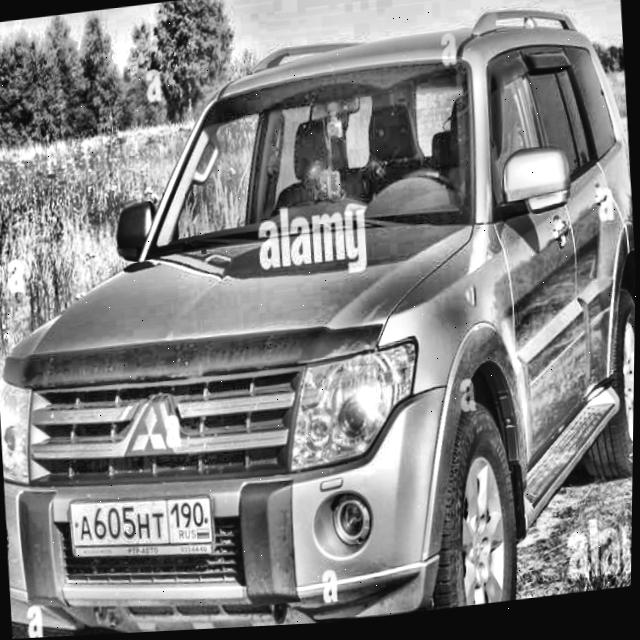light_vehicle: (0, 3, 640, 640)
